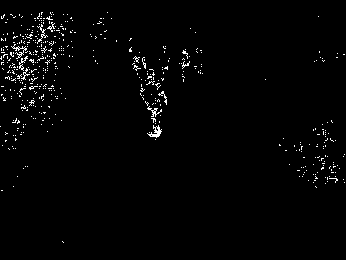person: (137, 69, 172, 139)
